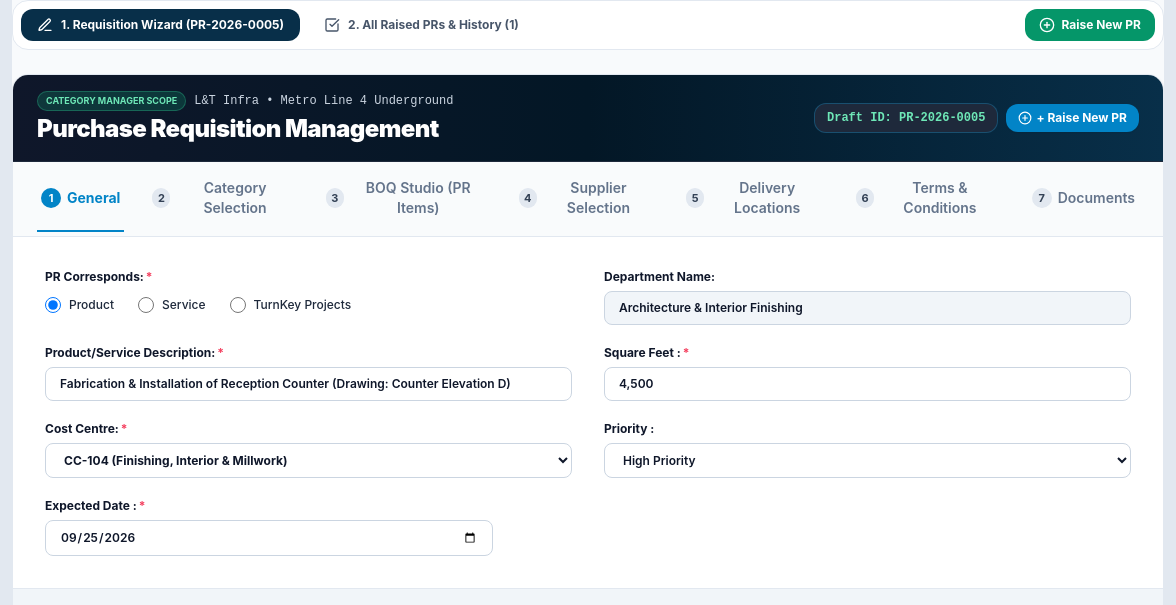
Test: PRModule Component › interacts with Step 2 (Category Selection)
Click the button "2 Category Selection" at [223, 198], box [148,166,298,232]
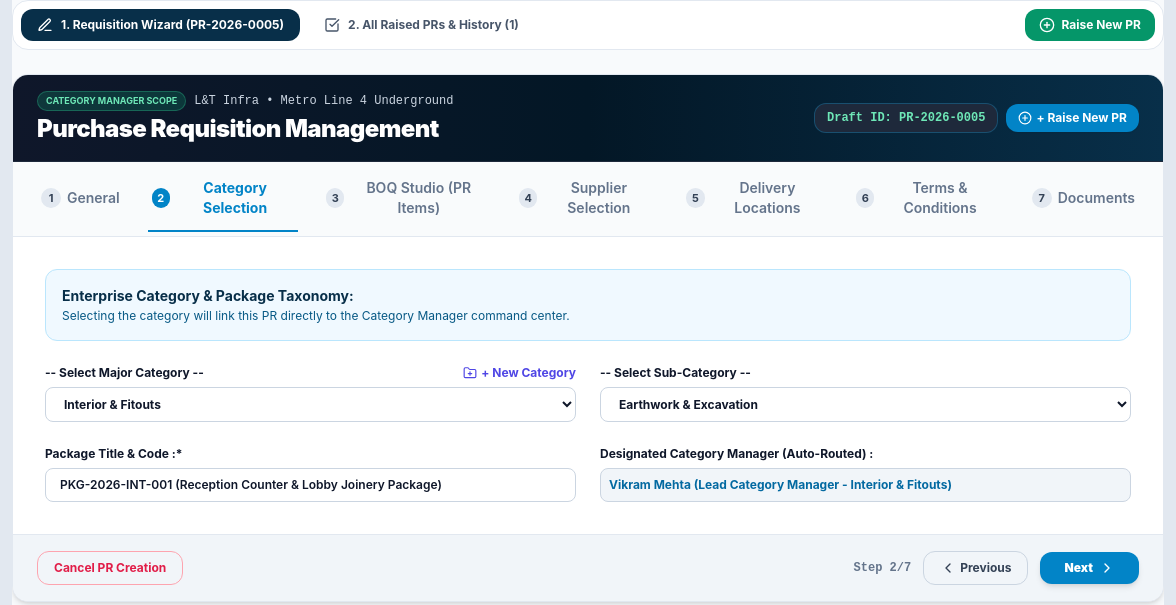
Expected: the text "Step 2/7" is shown, [854,560,911,576]
Select "Civil & Structural" in the dropdown below "-- Select Major Category --" at [310, 404], box [45,386,576,422]
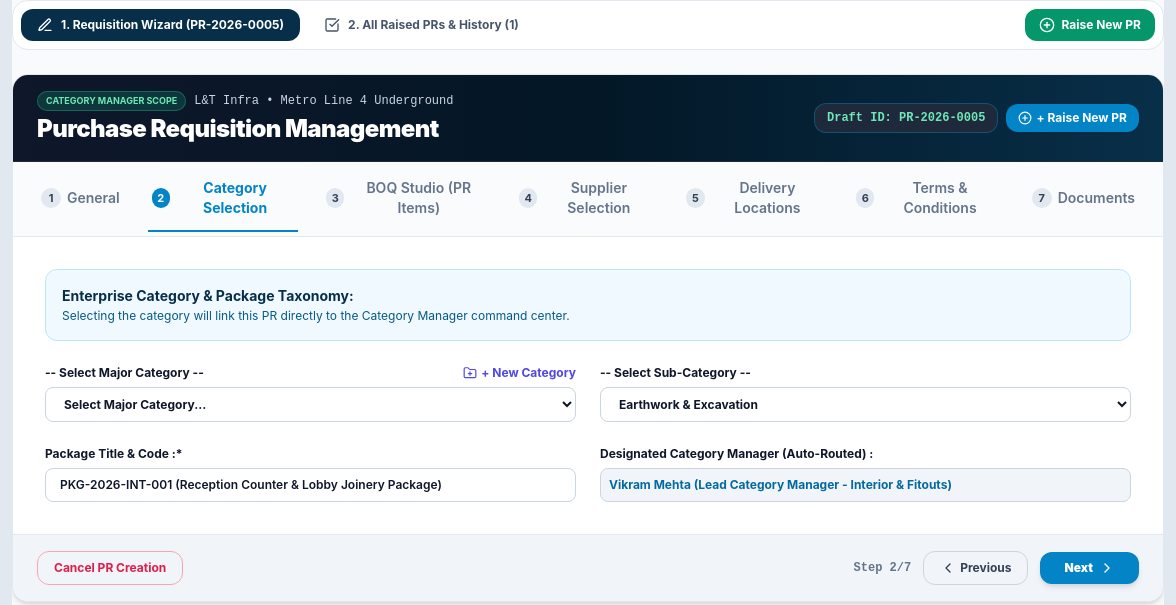
Select "False Ceiling & Acoustic Paneling" in the dropdown below "-- Select Sub-Category --" at [866, 404], box [600,386,1131,422]
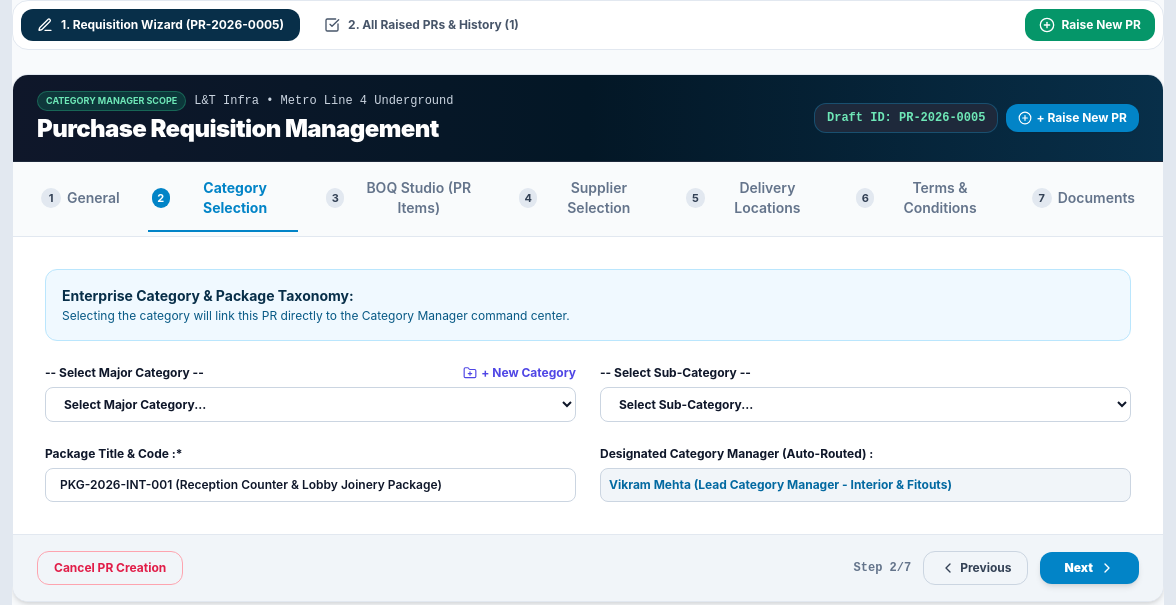
Replace the text in the 1st field with "Custom Sub-Category" at [310, 484], box [45,468,576,502]
(page scrolled)
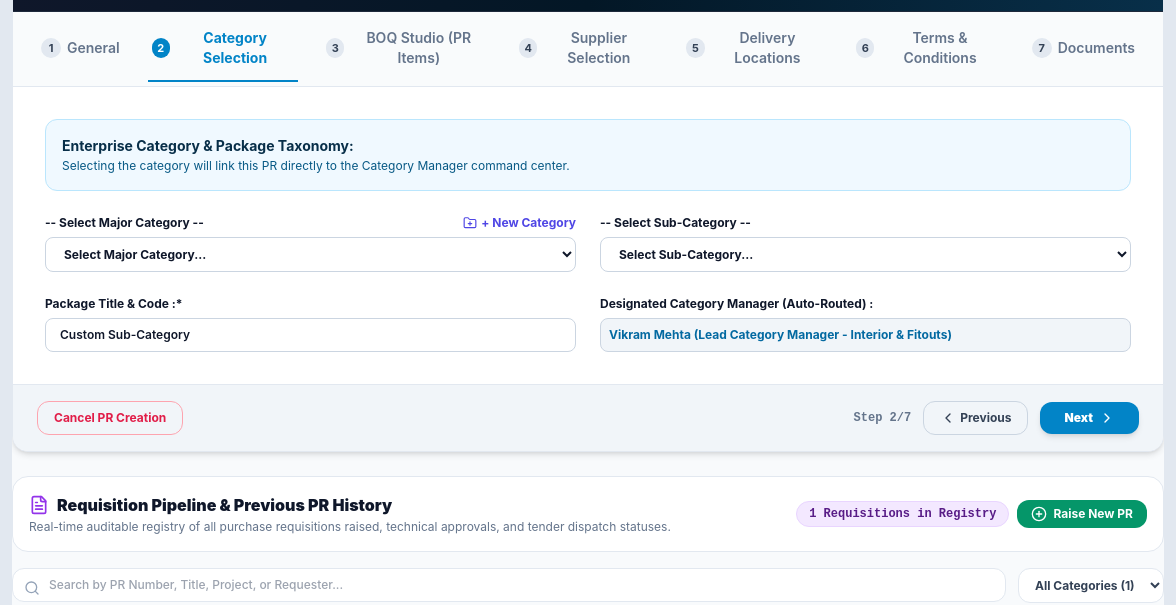
Type "PKG-CUSTOM-001" into the field with placeholder "Search by PR Number, Title, Project, or Requester..." at [509, 584], box [12,568,1006,602]
(page scrolled)
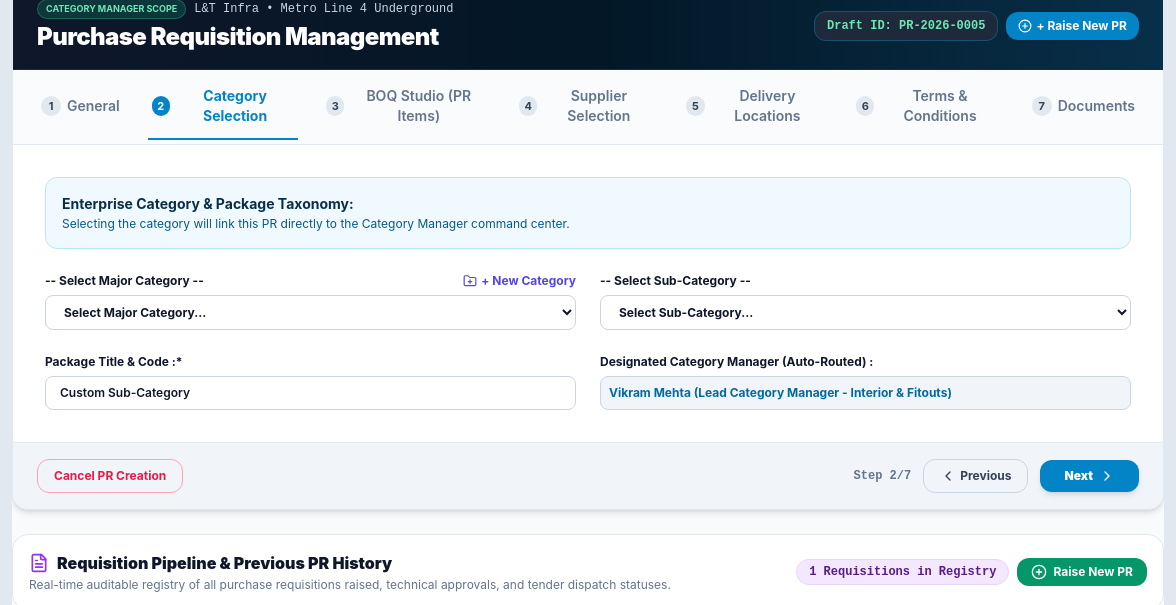
Note: Step 2 Next button
Click the button "Next" at [1090, 476], box [1040,460,1139,492]
(page scrolled)
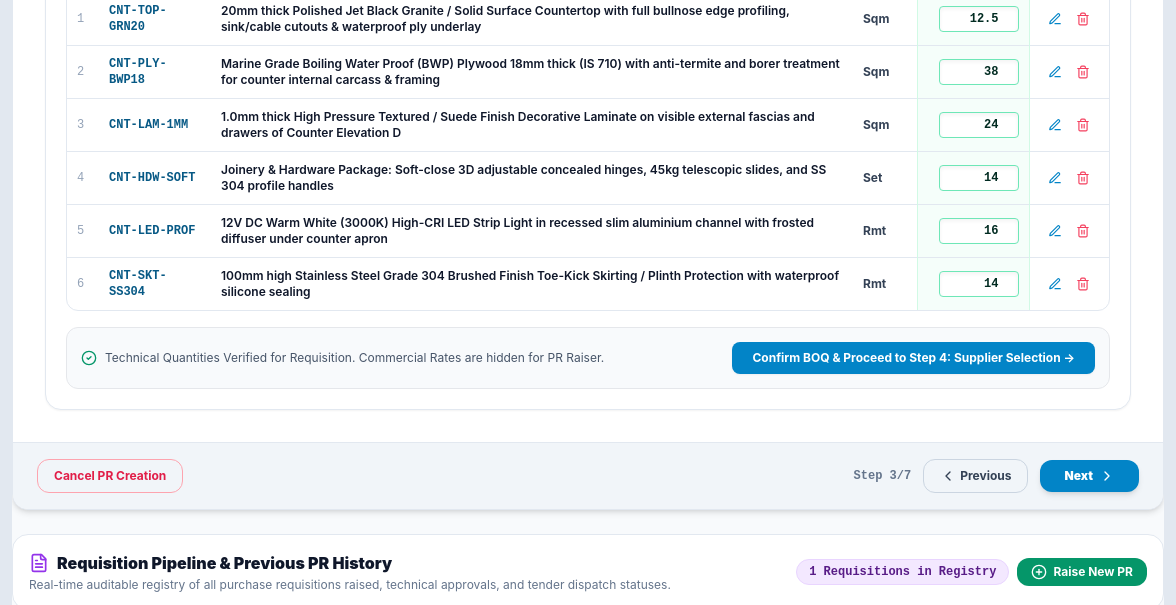
Expected: the text "Step 3/7" is shown, [854,468,911,484]
